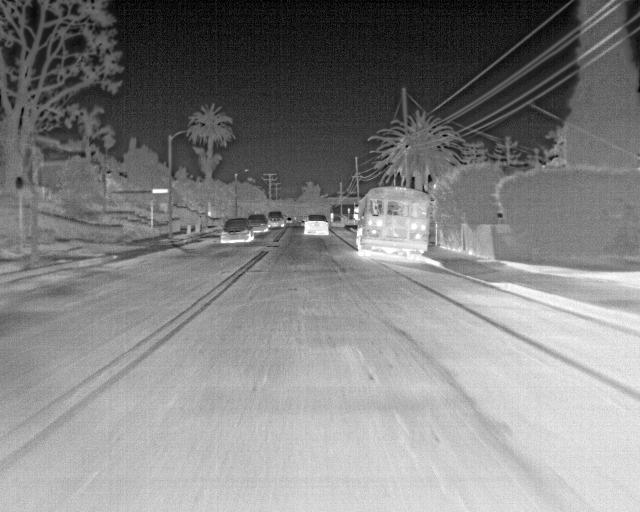car: (220, 218, 254, 244), (303, 213, 327, 233), (244, 212, 266, 231), (267, 211, 284, 228)
